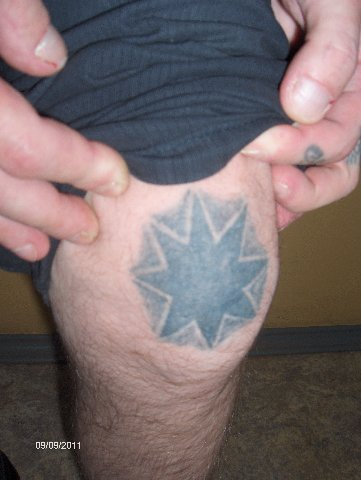tatu4_zvezda: (123, 191, 273, 358)
